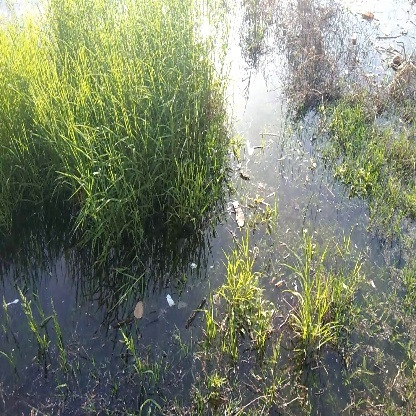grass: (218, 257, 279, 353)
